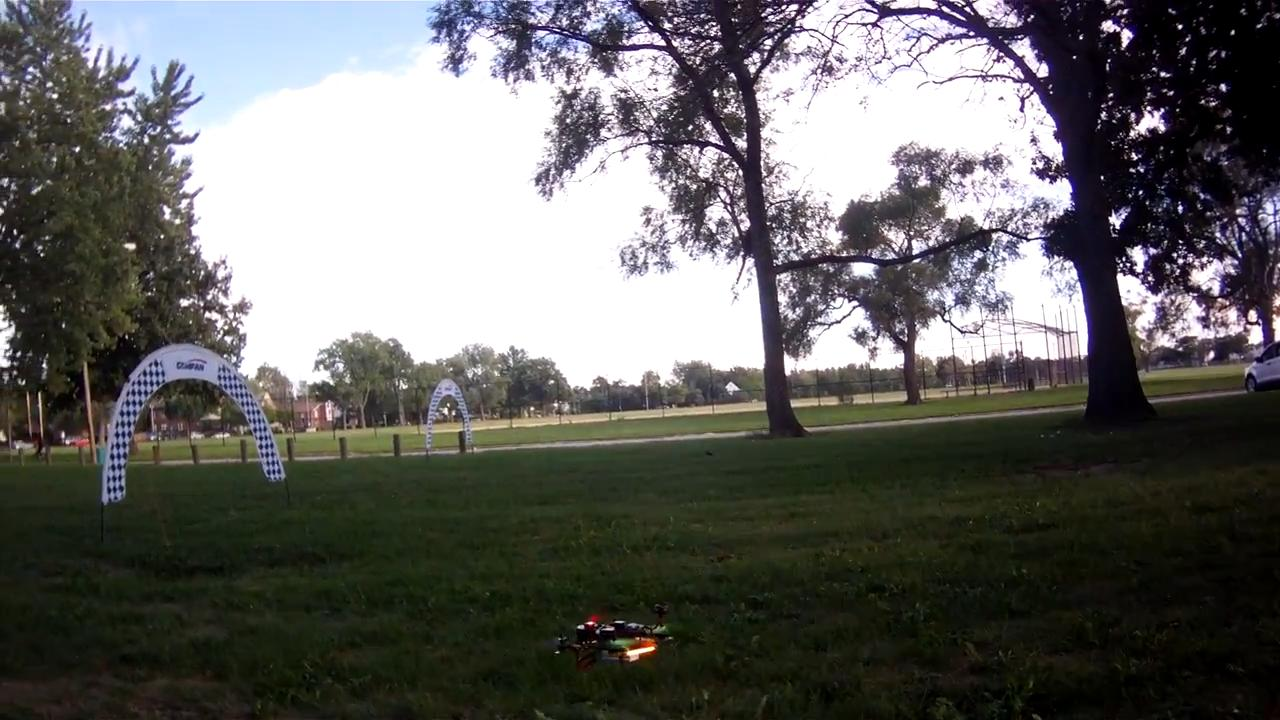gate: (101, 342, 288, 513), (422, 376, 472, 463)
